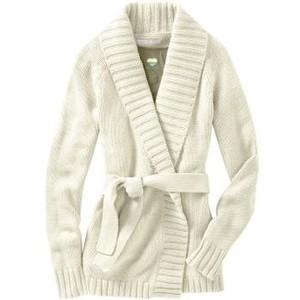S_cardigan sweater: (45, 13, 265, 300)
